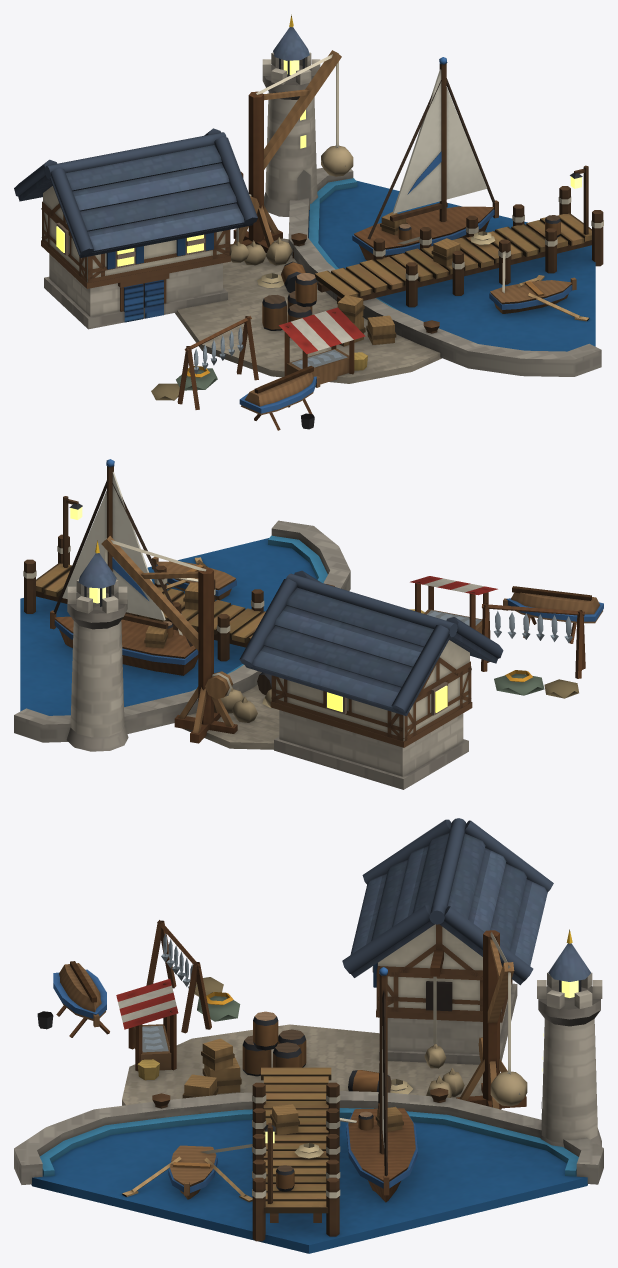
The model's file is port.glb.
The picture shows the model from 3 angles, top to bottom: view 1: azimuth 30°, elevation 25°; view 2: azimuth 150°, elevation 25°; view 3: azimuth 270°, elevation 25°; orthographic projection. The views are drawn at different scales.
Visible parts, largest first — view 1: port; view 2: port; view 3: port.
Part boxes in pixels (x1,y1,x2,y2): port: [14, 14, 603, 430]; port: [14, 459, 603, 789]; port: [14, 818, 603, 1253].
Size of the model in its own units: 1.47 by 0.572 by 1.36.
Materials: 4 (1 with a texture image).
